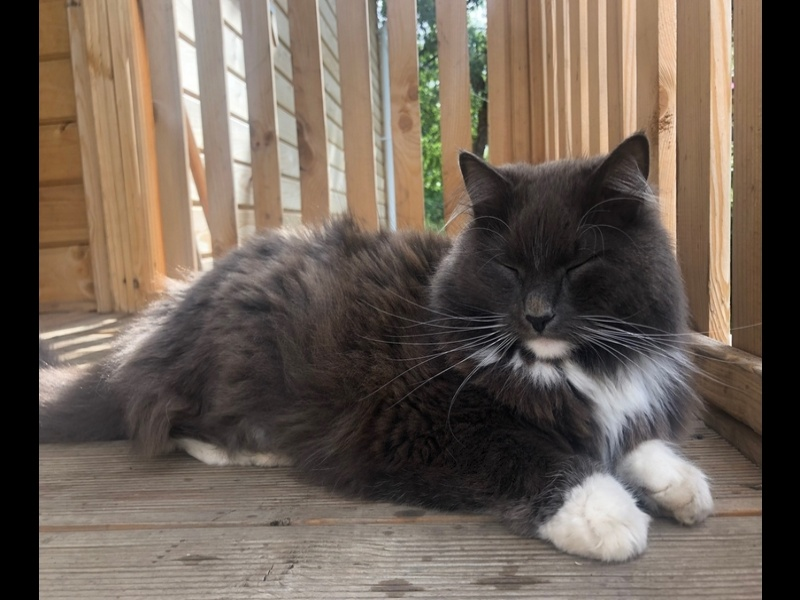cat: (42, 132, 709, 551)
